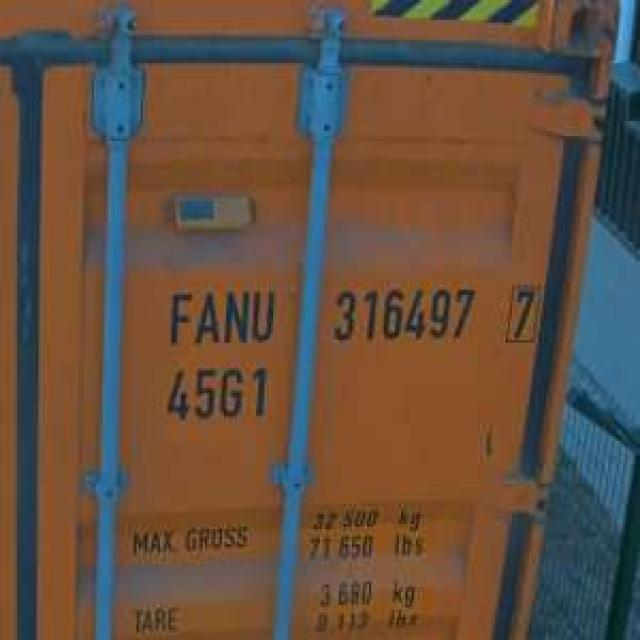dv: (499, 277, 546, 350)
owner: (158, 280, 279, 348)
serial: (326, 277, 478, 348)
size: (158, 358, 273, 426)
